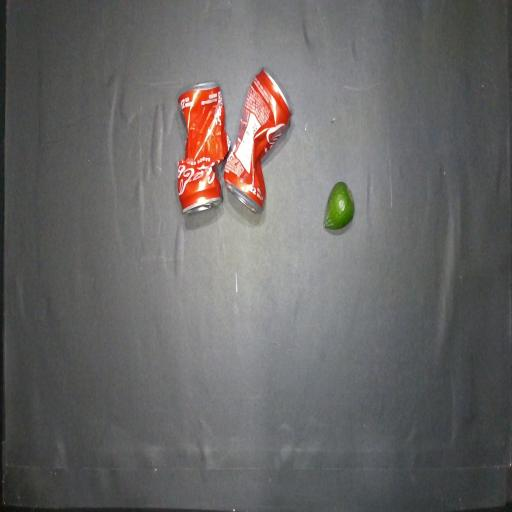higo: (324, 182, 354, 229)
lata_defectuoso: (177, 68, 292, 213)
